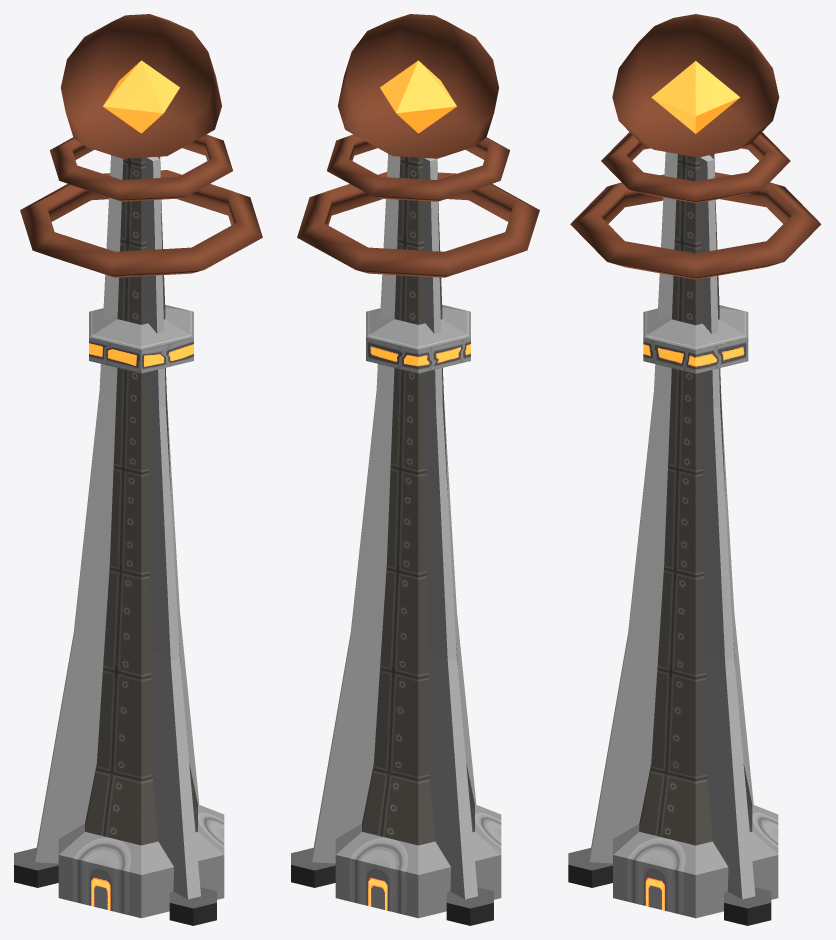
File: electric-pole-1.glb
3 renders of one model, left to right at view 1: azimuth 30°, elevation 25°; view 2: azimuth 150°, elevation 25°; view 3: azimuth 270°, elevation 25°, orthographic.
Parts seen in each view (by area): view 1: Torus.001; view 2: Torus.001; view 3: Torus.001.
Boxes of the visible parts, left/top/right/bottom form: Torus.001: left=14, top=14, right=262, bottom=925; Torus.001: left=291, top=14, right=539, bottom=925; Torus.001: left=568, top=14, right=821, bottom=925.
Bounding box in the file's own units: 10.54 × 39.59 × 10.61.
Materials: 1 (1 with a texture image).
